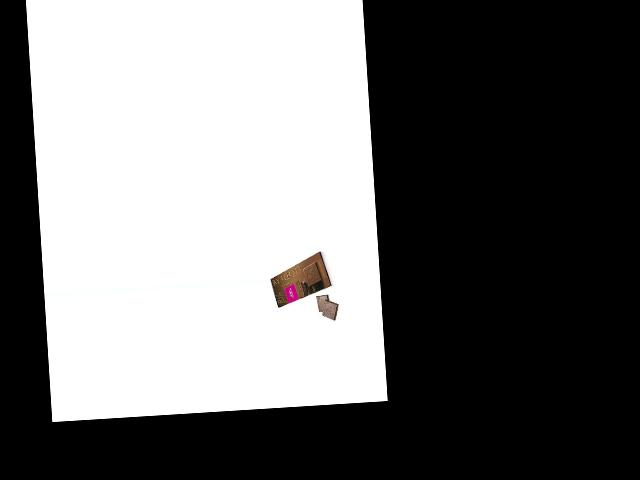chocolate: (268, 250, 334, 309)
